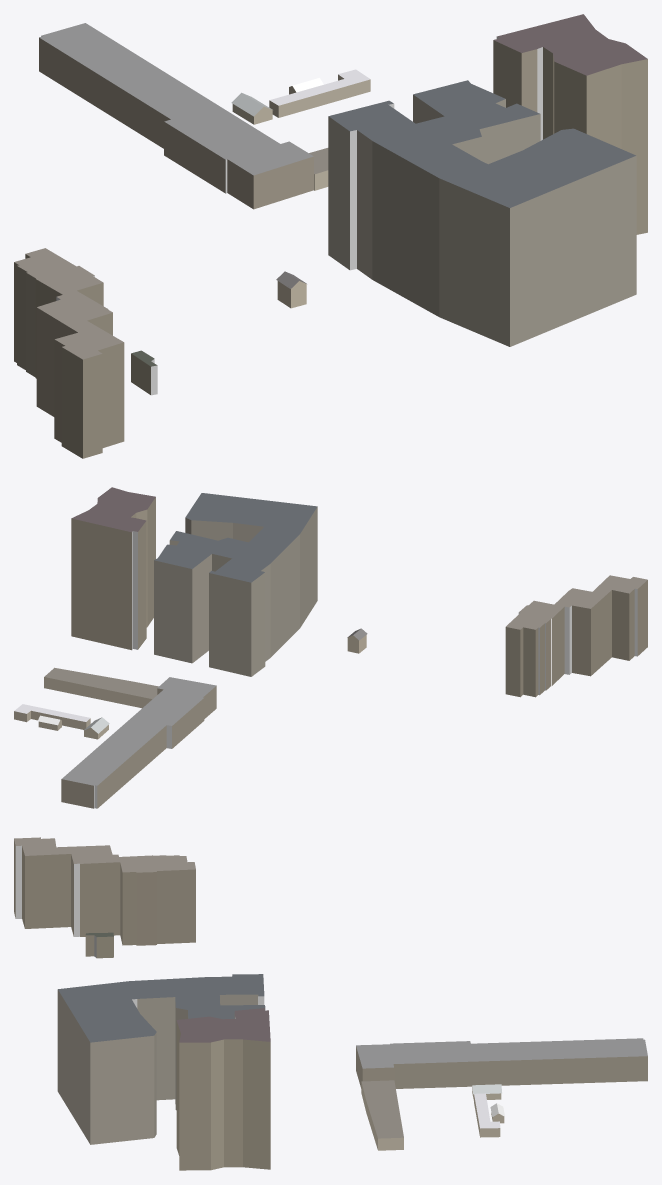
The picture shows the model from 3 angles, top to bottom: view 1: azimuth 30°, elevation 25°; view 2: azimuth 150°, elevation 25°; view 3: azimuth 270°, elevation 25°; orthographic projection. The views are drawn at different scales.
Visible parts, largest first — view 1: tuile; view 2: tuile; view 3: tuile.
Boxes of the visible parts, box(x1,y1,x2,y2) form: tuile: box(14, 14, 647, 458); tuile: box(14, 487, 647, 808); tuile: box(14, 837, 647, 1170).
Size of the model in its own units: 258 by 63 by 283.
